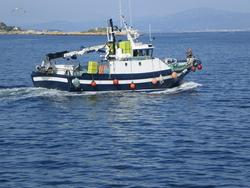otherboat: (27, 7, 204, 97)
